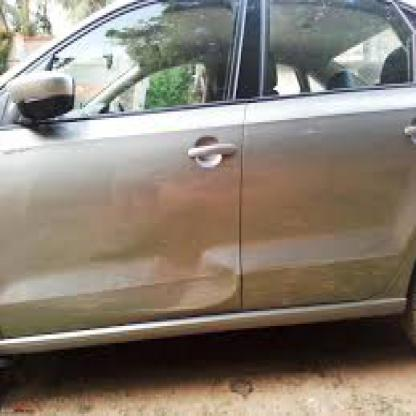dent: (113, 242, 238, 318)
